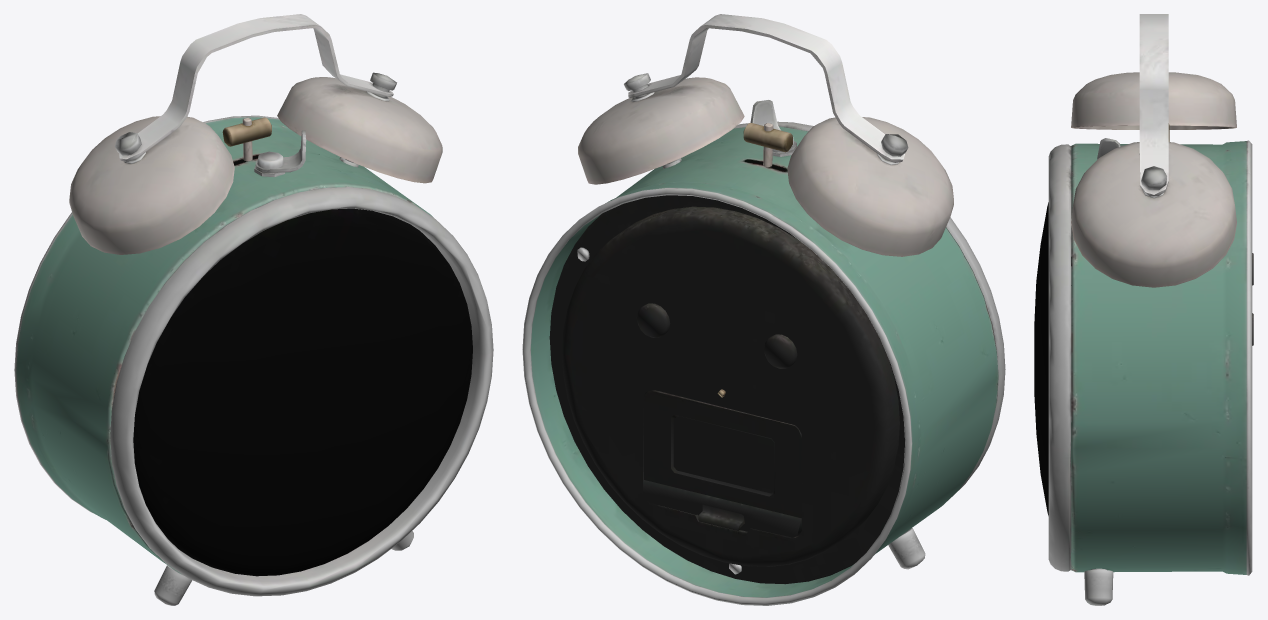
Rendered from alarm_clock_01.glb.
The picture shows the model from 3 angles, left to right: view 1: azimuth 30°, elevation 25°; view 2: azimuth 150°, elevation 25°; view 3: azimuth 270°, elevation 25°; orthographic projection. The views are drawn at different scales.
Visible parts, largest first — view 1: alarm_clock_01; view 2: alarm_clock_01; view 3: alarm_clock_01.
Part boxes in pixels (left/top/right/bottom): alarm_clock_01: left=14, top=14, right=493, bottom=605; alarm_clock_01: left=522, top=14, right=1005, bottom=605; alarm_clock_01: left=1034, top=14, right=1253, bottom=605.
Size of the model in its own units: 0.1317 by 0.1741 by 0.0662.
Materials: 2 (2 with a texture image).
